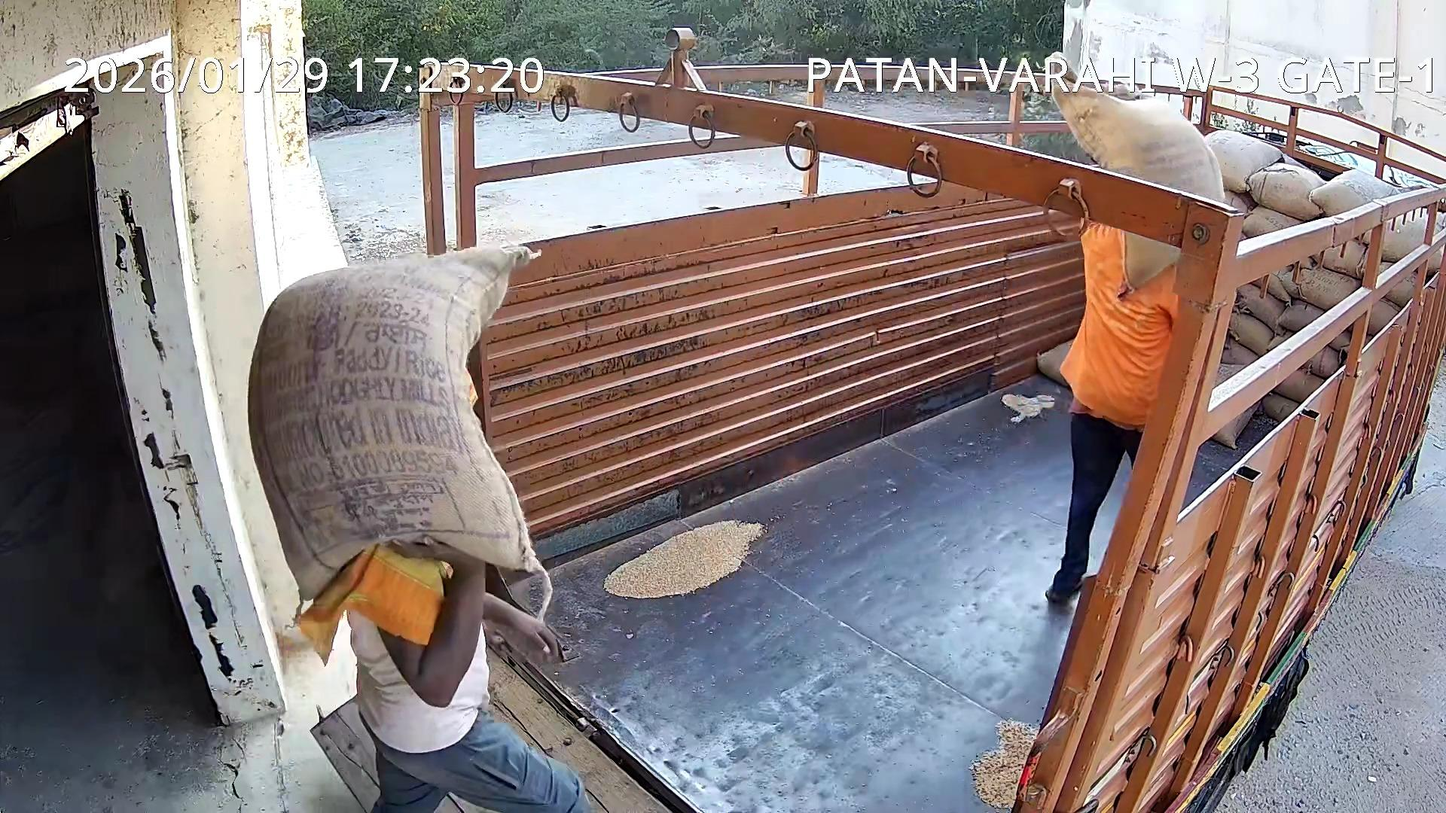Sack: (249, 246, 541, 599), (1053, 84, 1225, 203), (1124, 230, 1179, 286)
